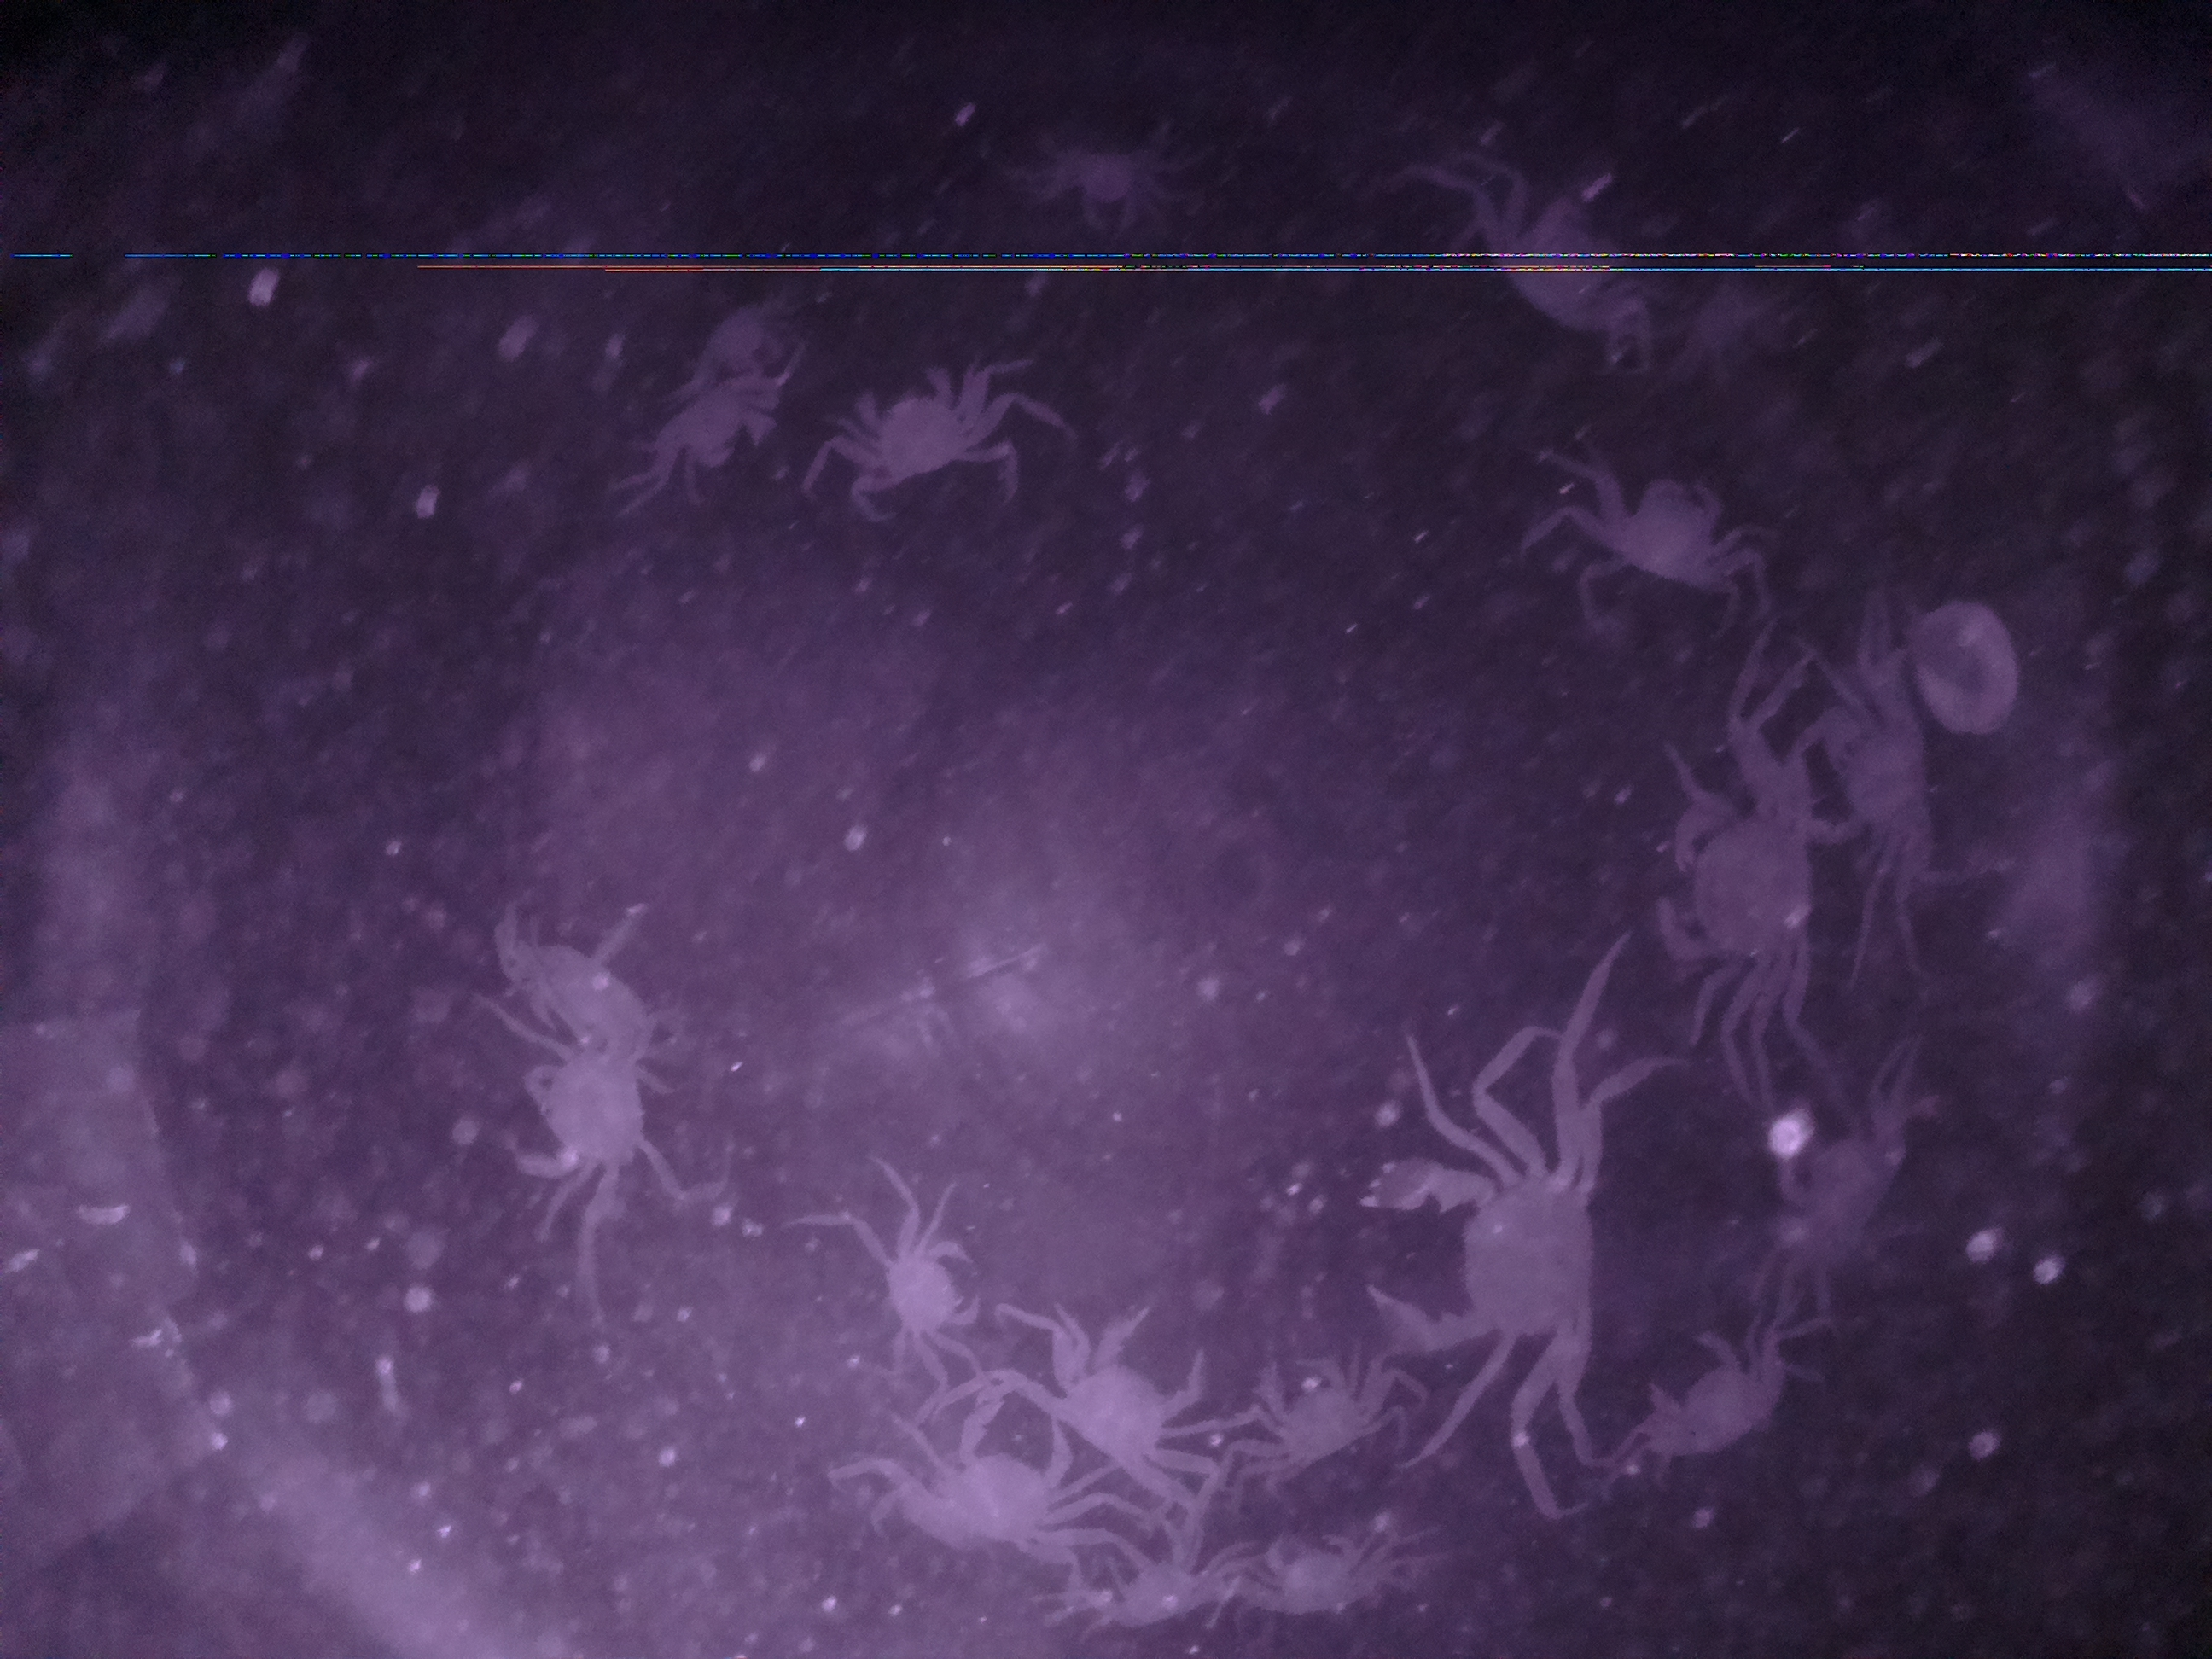Crab: (1345, 1134, 1616, 1377), (1651, 763, 1827, 1009), (826, 342, 1069, 509), (1564, 446, 1782, 615), (1043, 1297, 1224, 1486), (1630, 1328, 1778, 1478), (1238, 1330, 1376, 1490), (857, 1230, 986, 1361), (1247, 1520, 1369, 1645)
